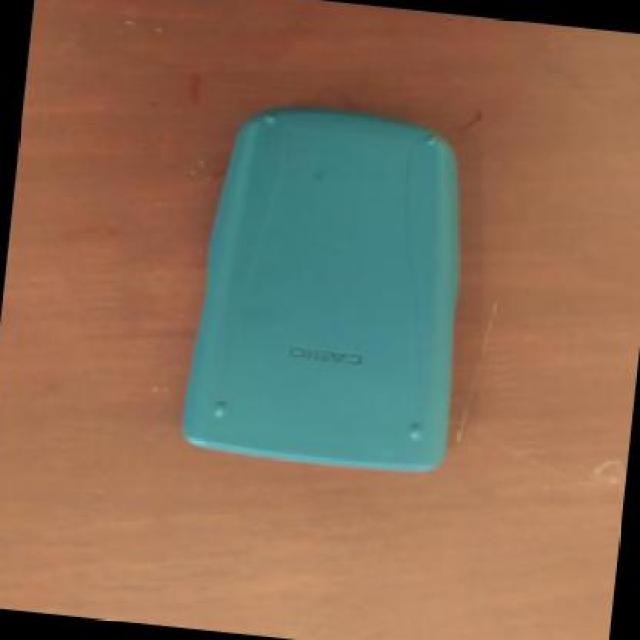Calculator: (176, 82, 490, 489)
